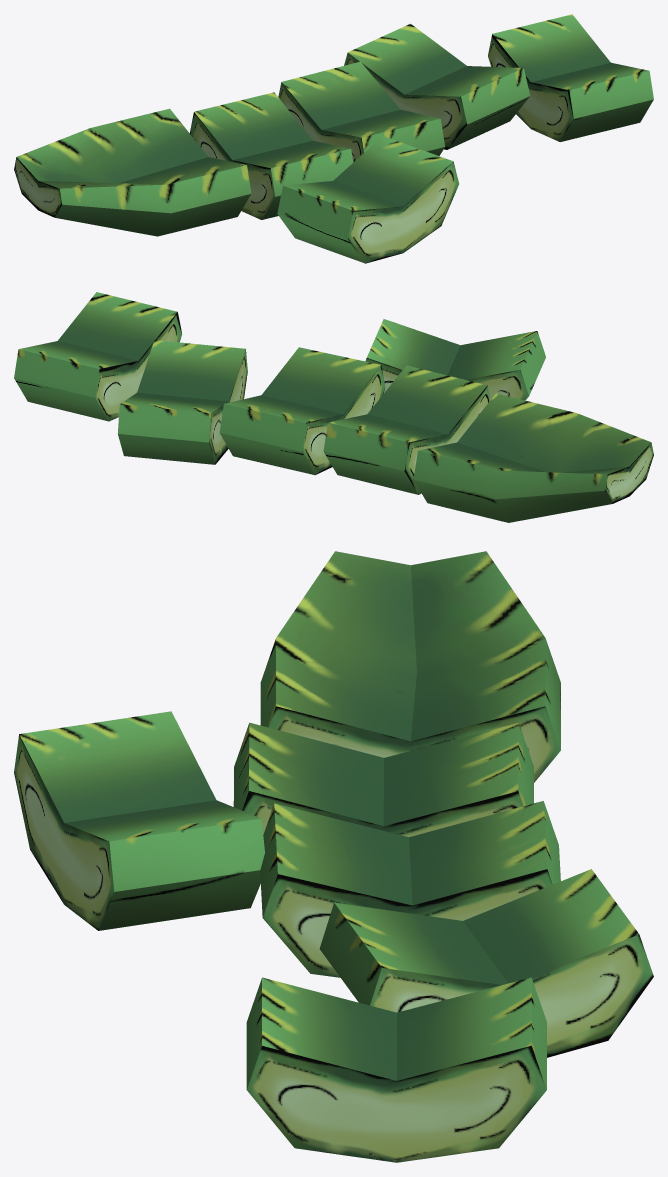
Rendered from Chopped_AloeVera.fbx.
The picture shows the model from 3 angles, top to bottom: view 1: azimuth 30°, elevation 25°; view 2: azimuth 150°, elevation 25°; view 3: azimuth 270°, elevation 25°; orthographic projection. The views are drawn at different scales.
Visible parts, largest first — view 1: Cube.001, Cube.073, Cube.071, Cube.072, Cube.075, Cube.074; view 2: Cube.001, Cube.071, Cube.074, Cube.072, Cube.075, Cube.073; view 3: Cube.001, Cube.071, Cube.073, Cube.072, Cube.074, Cube.075.
Part boxes in pixels (bbox=[...]): Cube.001: bbox=[14, 108, 251, 236]; Cube.073: bbox=[277, 136, 459, 263]; Cube.071: bbox=[488, 14, 653, 141]; Cube.072: bbox=[344, 23, 530, 149]; Cube.075: bbox=[189, 92, 353, 219]; Cube.074: bbox=[278, 61, 445, 162]; Cube.001: bbox=[413, 393, 653, 522]; Cube.071: bbox=[14, 292, 182, 421]; Cube.074: bbox=[219, 347, 385, 474]; Cube.072: bbox=[117, 340, 247, 464]; Cube.075: bbox=[323, 365, 490, 494]; Cube.073: bbox=[365, 319, 545, 400]; Cube.001: bbox=[260, 551, 560, 782]; Cube.071: bbox=[246, 977, 546, 1162]; Cube.073: bbox=[14, 711, 264, 930]; Cube.072: bbox=[319, 869, 653, 1057]; Cube.074: bbox=[260, 801, 560, 977]; Cube.075: bbox=[233, 722, 533, 836].
Bounding box in the file's own units: 84.94 × 47.4 × 10.58.
1 material, 1 textured.
